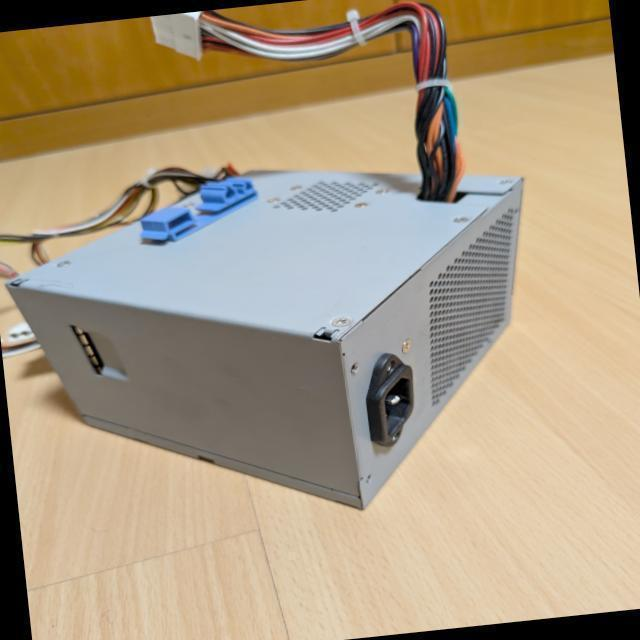PSU: (0, 139, 557, 544)
